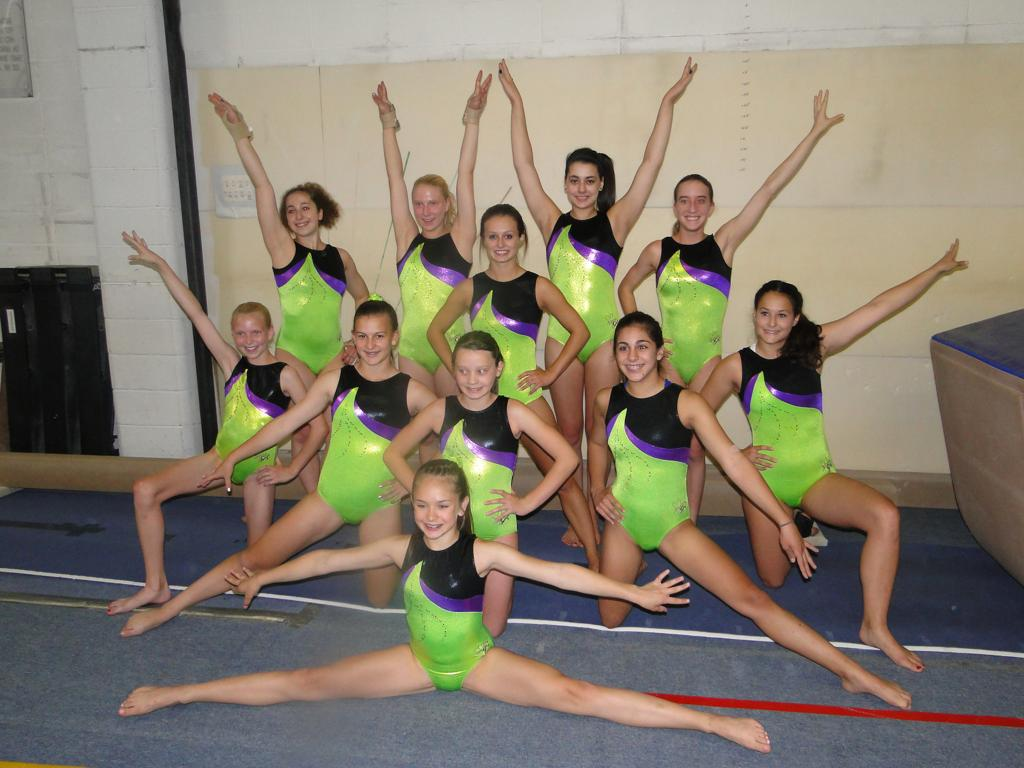face: (414, 482, 459, 538), (616, 333, 657, 382), (455, 354, 496, 400), (756, 298, 794, 345), (356, 319, 393, 365), (676, 187, 710, 231), (234, 317, 269, 358), (485, 222, 520, 262), (566, 167, 600, 208), (413, 190, 444, 230), (287, 197, 318, 235)
